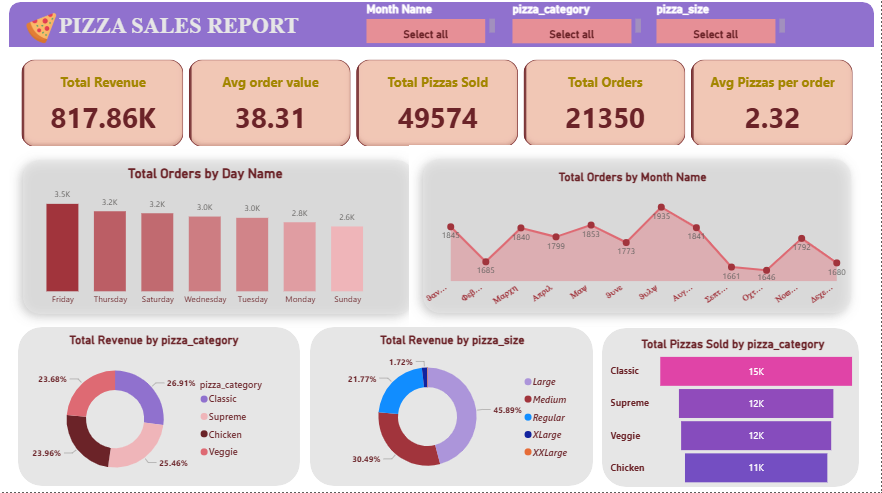

The page's visual inventory and layout, read from the dashboard file:
{"tool":"powerbi","page":{"name":"Page 1","canvas":[1280,720],"ordinal":0},"visuals":[{"type":"cardVisual","fields":{"Data":["pizza_sales.Total Revenue","pizza_sales.Avg order value","pizza_sales.Total Pizzas Sold","pizza_sales.Total Orders","pizza_sales.Avg Pizzas per order"]},"box":[36,92.2,1208.2,136.8],"z":0},{"type":"shape","box":[22.8,221.3,603,262],"z":0,"group":"g1"},{"type":"shape","box":[23,14.4,1245.6,64.8],"z":1000},{"type":"columnChart","fields":{"Y":["pizza_sales.Total Orders"],"Category":["pizza_sales.Day Name"]},"box":[43.8,248.4,522.4,211.9],"z":1000,"group":"g1"},{"type":"textbox","box":[49,24.5,437.8,64.8],"z":2000},{"type":"group","id":"g1","title":"Group 1","box":[22.8,221.3,603,262],"z":3000},{"type":"group","id":"g2","title":"Group 2","box":[599,220.3,656.6,262.1],"z":4000},{"type":"shape","box":[599,220.3,656.6,262.1],"z":5000,"group":"g2"},{"type":"shape","box":[36,482.4,406.1,229],"z":5000},{"type":"shape","box":[877,483.8,370.1,229],"z":6000},{"type":"areaChart","fields":{"Y":["pizza_sales.Total Orders"],"Category":["pizza_sales.Month Name"]},"box":[601.6,256.5,638.3,205],"z":7000,"group":"g2"},{"type":"shape","box":[456.5,482.4,407.5,229],"z":7000},{"type":"donutChart","fields":{"Category":["pizza_sales.pizza_category"],"Y":["pizza_sales.Total Revenue"]},"box":[49,491,365.8,229],"z":8000},{"type":"donutChart","fields":{"Category":["pizza_sales.pizza_size"],"Y":["pizza_sales.Total Revenue"]},"box":[482.4,491,358.6,221.8],"z":9000},{"type":"funnel","fields":{"Category":["pizza_sales.pizza_category Hierarchy.pizza_category"],"Y":["pizza_sales.Total Pizzas Sold"]},"box":[884.2,496.8,362.9,218.9],"z":10000},{"type":"image","box":[36,24.5,67.7,54.7],"z":11000},{"type":"advancedSlicerVisual","fields":{"Values":["pizza_sales.Month Name"]},"box":[532.8,14.4,195.8,64.8],"z":12000},{"type":"advancedSlicerVisual","fields":{"Values":["pizza_sales.pizza_category"]},"box":[743,14.4,195.8,64.8],"z":13000},{"type":"advancedSlicerVisual","fields":{"Values":["pizza_sales.pizza_size"]},"box":[950.4,14.4,195.8,64.8],"z":14000}]}

Visuals, with their boxes in screenshot pixels (x1, y1, x2, y2), scaled from the page's 1280x720 canvas onto the 882x493 screenshot:
cardVisual - pizza_sales.Total Revenue x pizza_sales.Avg order value: BBox(25, 63, 857, 157)
shape: BBox(16, 152, 431, 331)
shape: BBox(16, 10, 874, 54)
columnChart - pizza_sales.Total Orders x pizza_sales.Day Name: BBox(30, 170, 390, 315)
textbox: BBox(34, 17, 335, 61)
"Group 1" group: BBox(16, 152, 431, 331)
"Group 2" group: BBox(413, 151, 865, 330)
shape: BBox(413, 151, 865, 330)
shape: BBox(25, 330, 305, 487)
shape: BBox(604, 331, 859, 488)
areaChart - pizza_sales.Total Orders x pizza_sales.Month Name: BBox(415, 176, 854, 316)
shape: BBox(315, 330, 595, 487)
donutChart - pizza_sales.pizza_category x pizza_sales.Total Revenue: BBox(34, 336, 286, 492)
donutChart - pizza_sales.pizza_size x pizza_sales.Total Revenue: BBox(332, 336, 580, 488)
funnel - pizza_sales.pizza_category Hierarchy.pizza_category x pizza_sales.Total Pizzas Sold: BBox(609, 340, 859, 490)
image: BBox(25, 17, 71, 54)
advancedSlicerVisual - pizza_sales.Month Name: BBox(367, 10, 502, 54)
advancedSlicerVisual - pizza_sales.pizza_category: BBox(512, 10, 647, 54)
advancedSlicerVisual - pizza_sales.pizza_size: BBox(655, 10, 790, 54)
